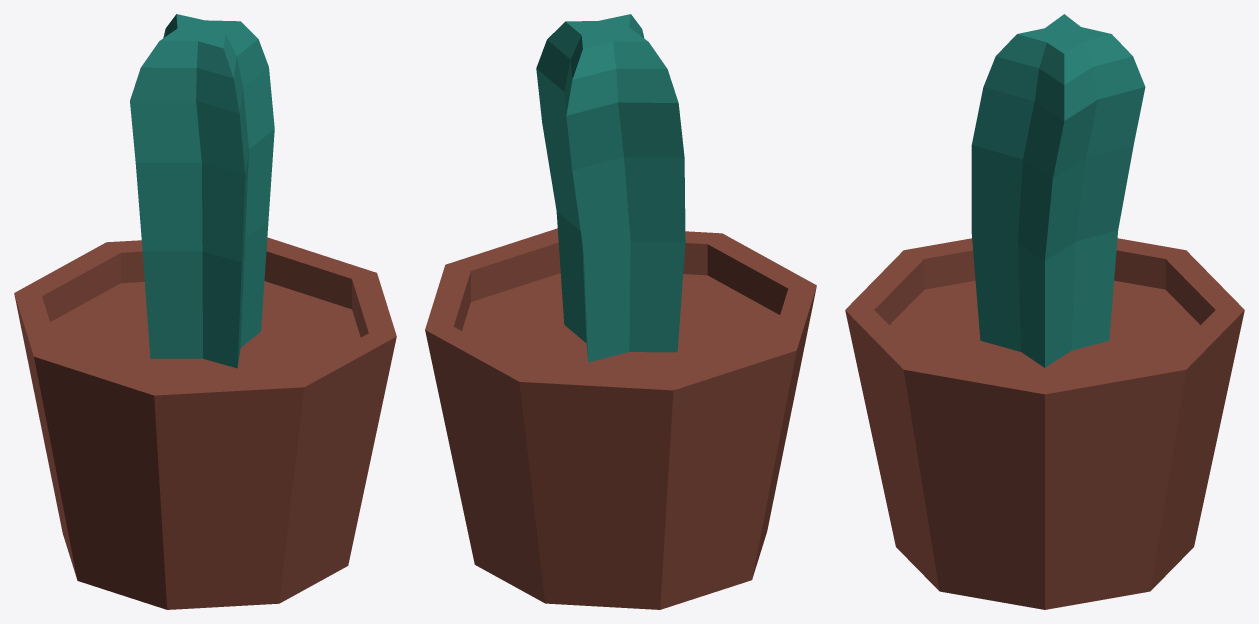
Rendered from cactus.fbx.
3 views of the same model, side by side, from view 1: azimuth 30°, elevation 25°; view 2: azimuth 150°, elevation 25°; view 3: azimuth 270°, elevation 25° (orthographic). The views are drawn at different scales.
Parts seen in each view (by area): view 1: Cylinder.006; view 2: Cylinder.006; view 3: Cylinder.006.
Boxes of the visible parts, x1,y1,x2,y2 form: Cylinder.006: (14,14,396,609); Cylinder.006: (425,14,816,609); Cylinder.006: (845,14,1244,609).
Size of the model in its own units: 39.87 by 56.67 by 39.87.
